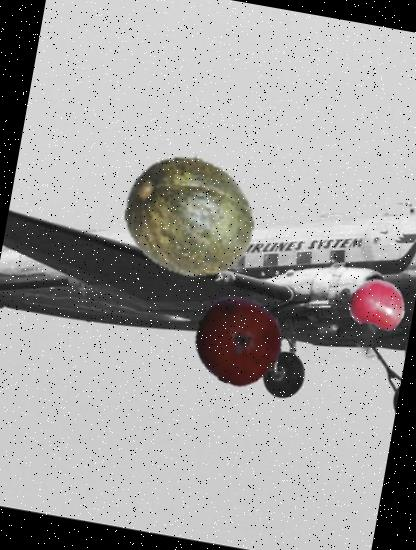Cherry: (346, 272, 410, 336)
Melon: (113, 140, 266, 292)
Pomegranate: (187, 290, 288, 391)
